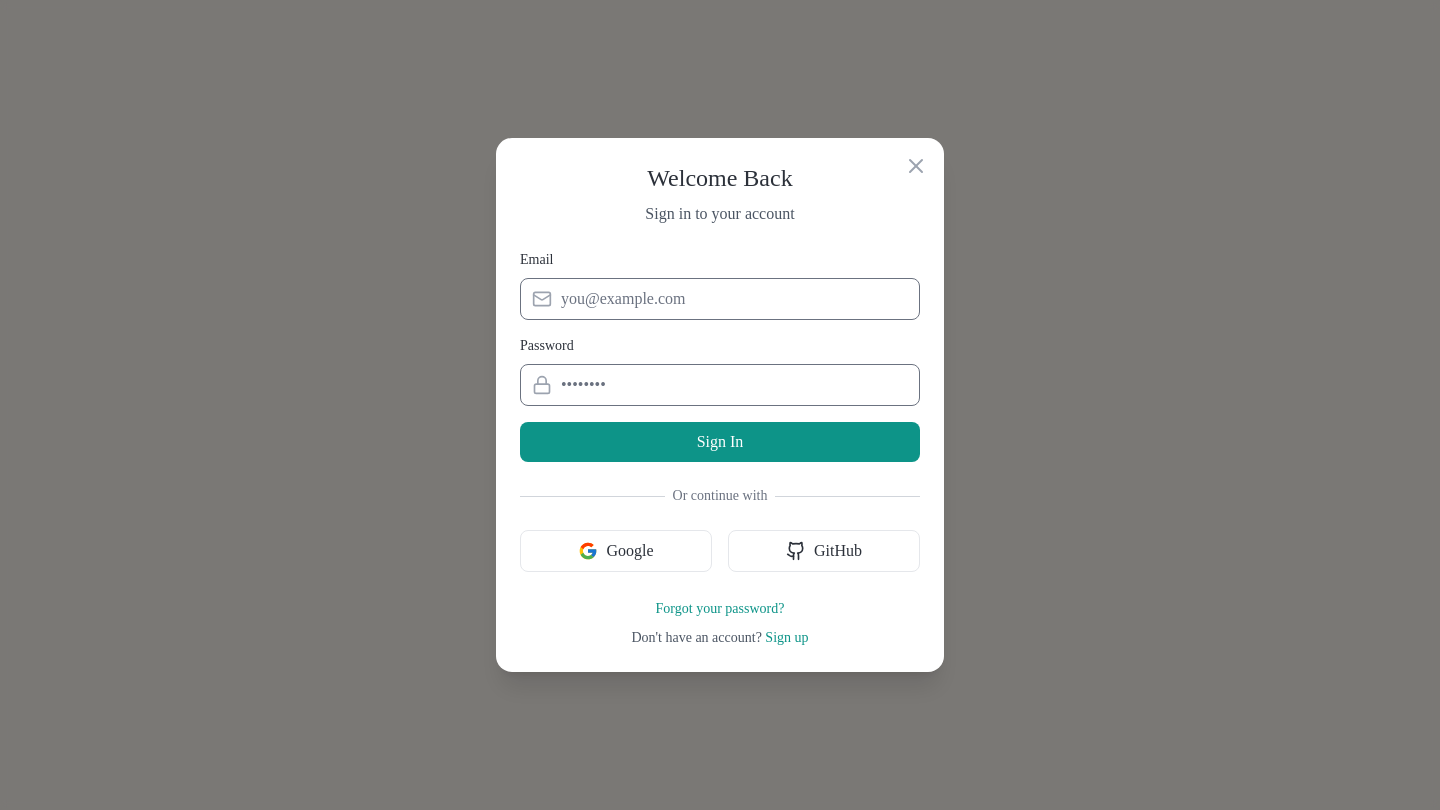
AuthModal › displays loading state during submission
The width and height of the screenshot is (1440, 810).
Type "test@example.com" into the field with placeholder "you@example.com" at (720, 299), box [520, 278, 920, 320]
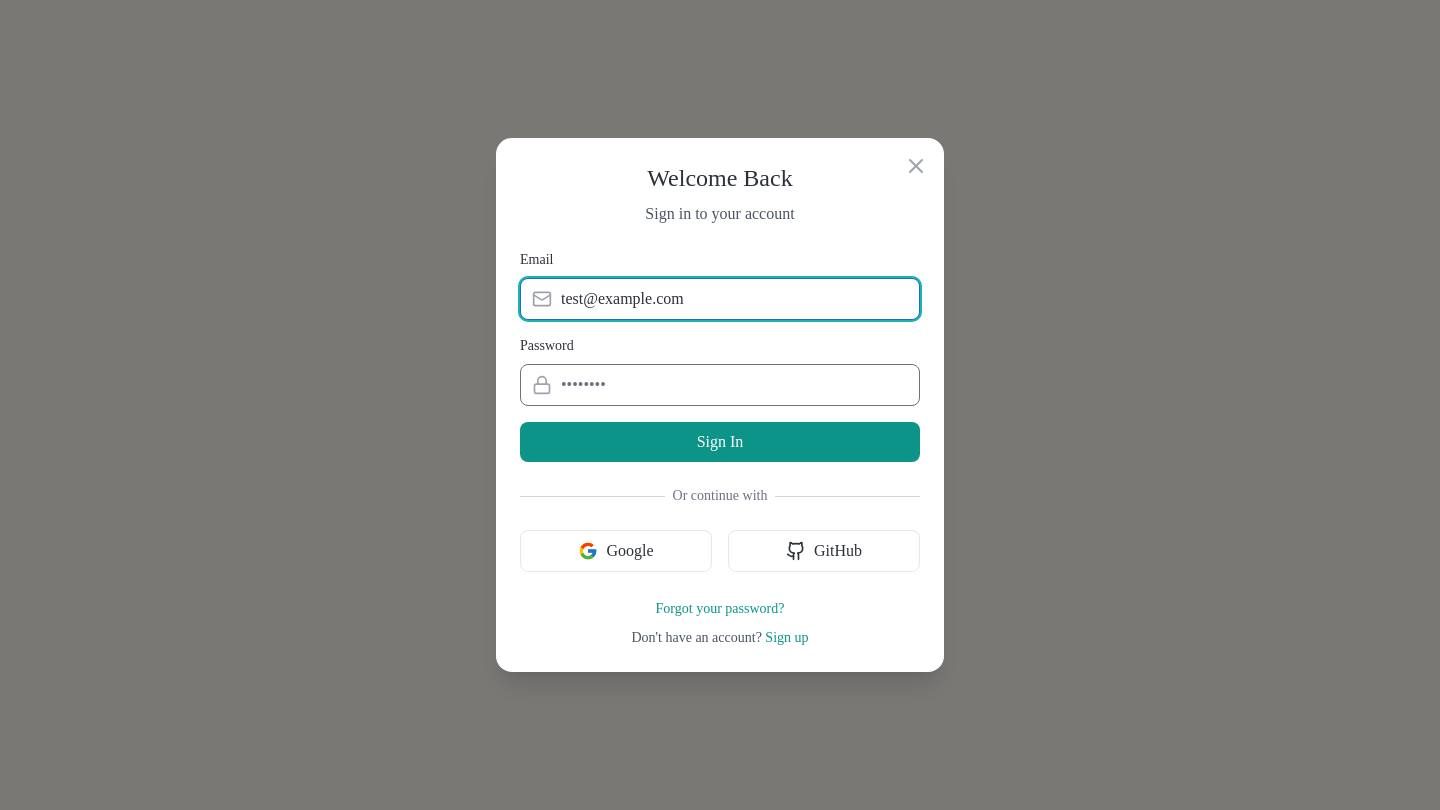
Type "password123" into the password field with placeholder "••••••••" at (720, 385), box [520, 364, 920, 406]
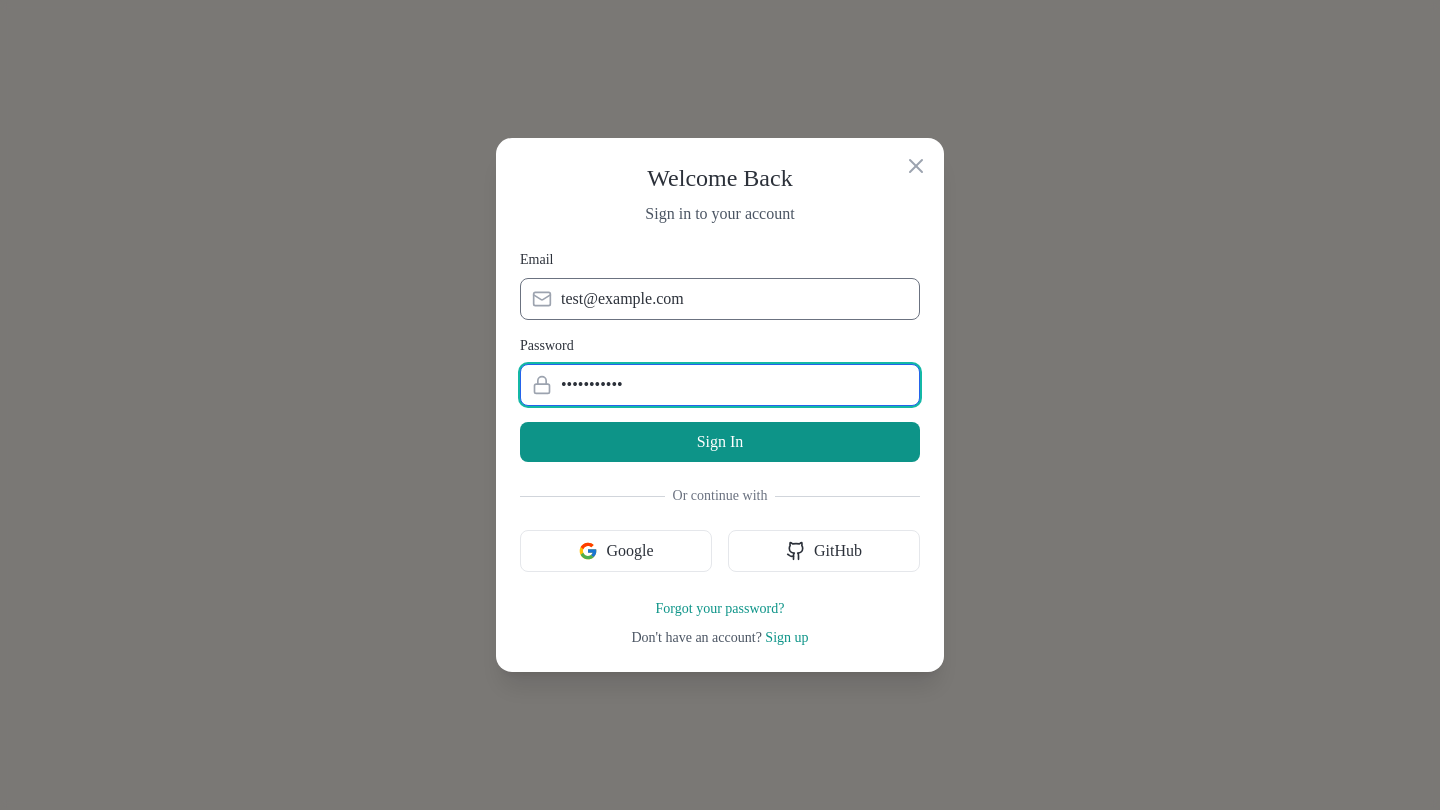
Click the button "Sign In" at (720, 442), box [520, 422, 920, 462]
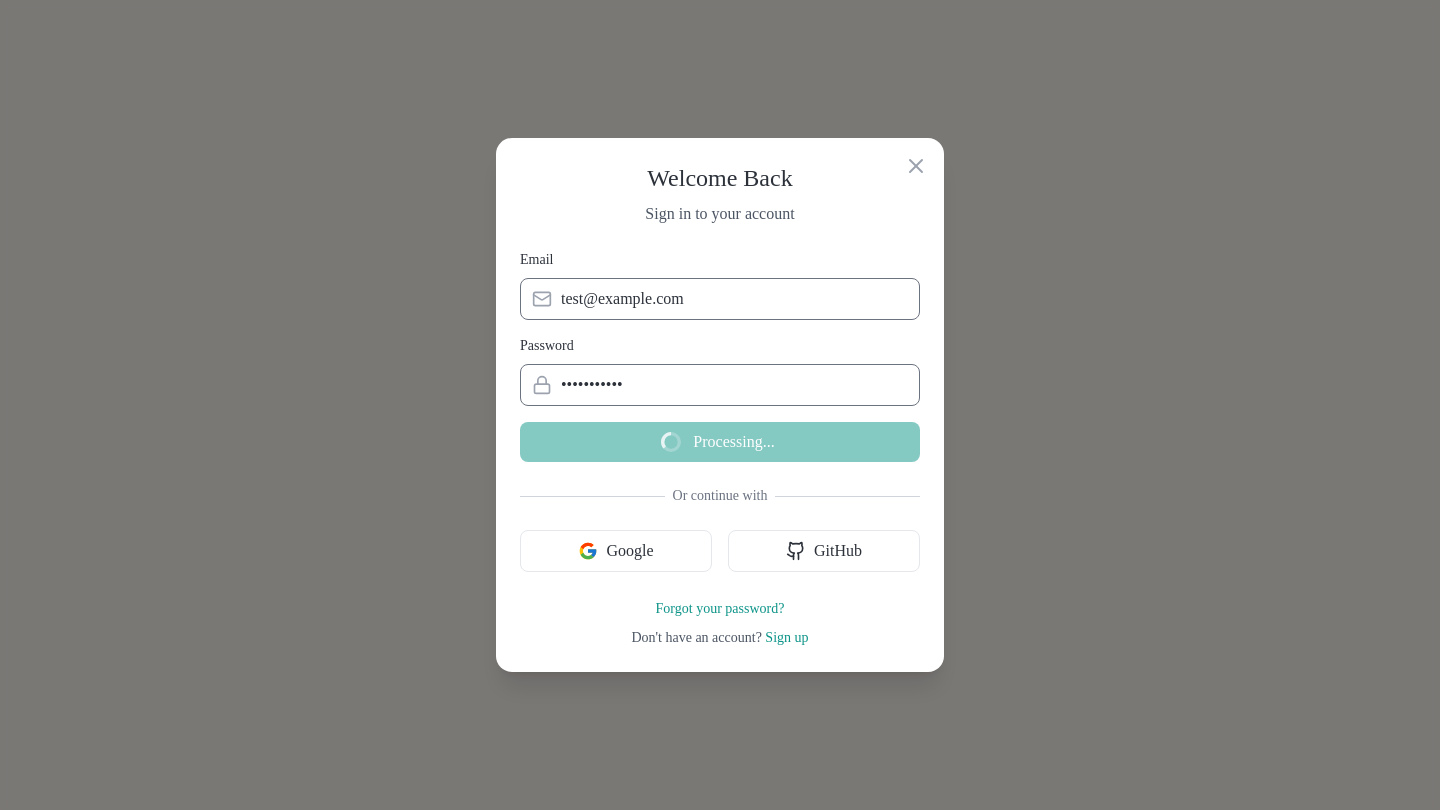
Now the text "Processing..." is shown, box [661, 432, 775, 452]
